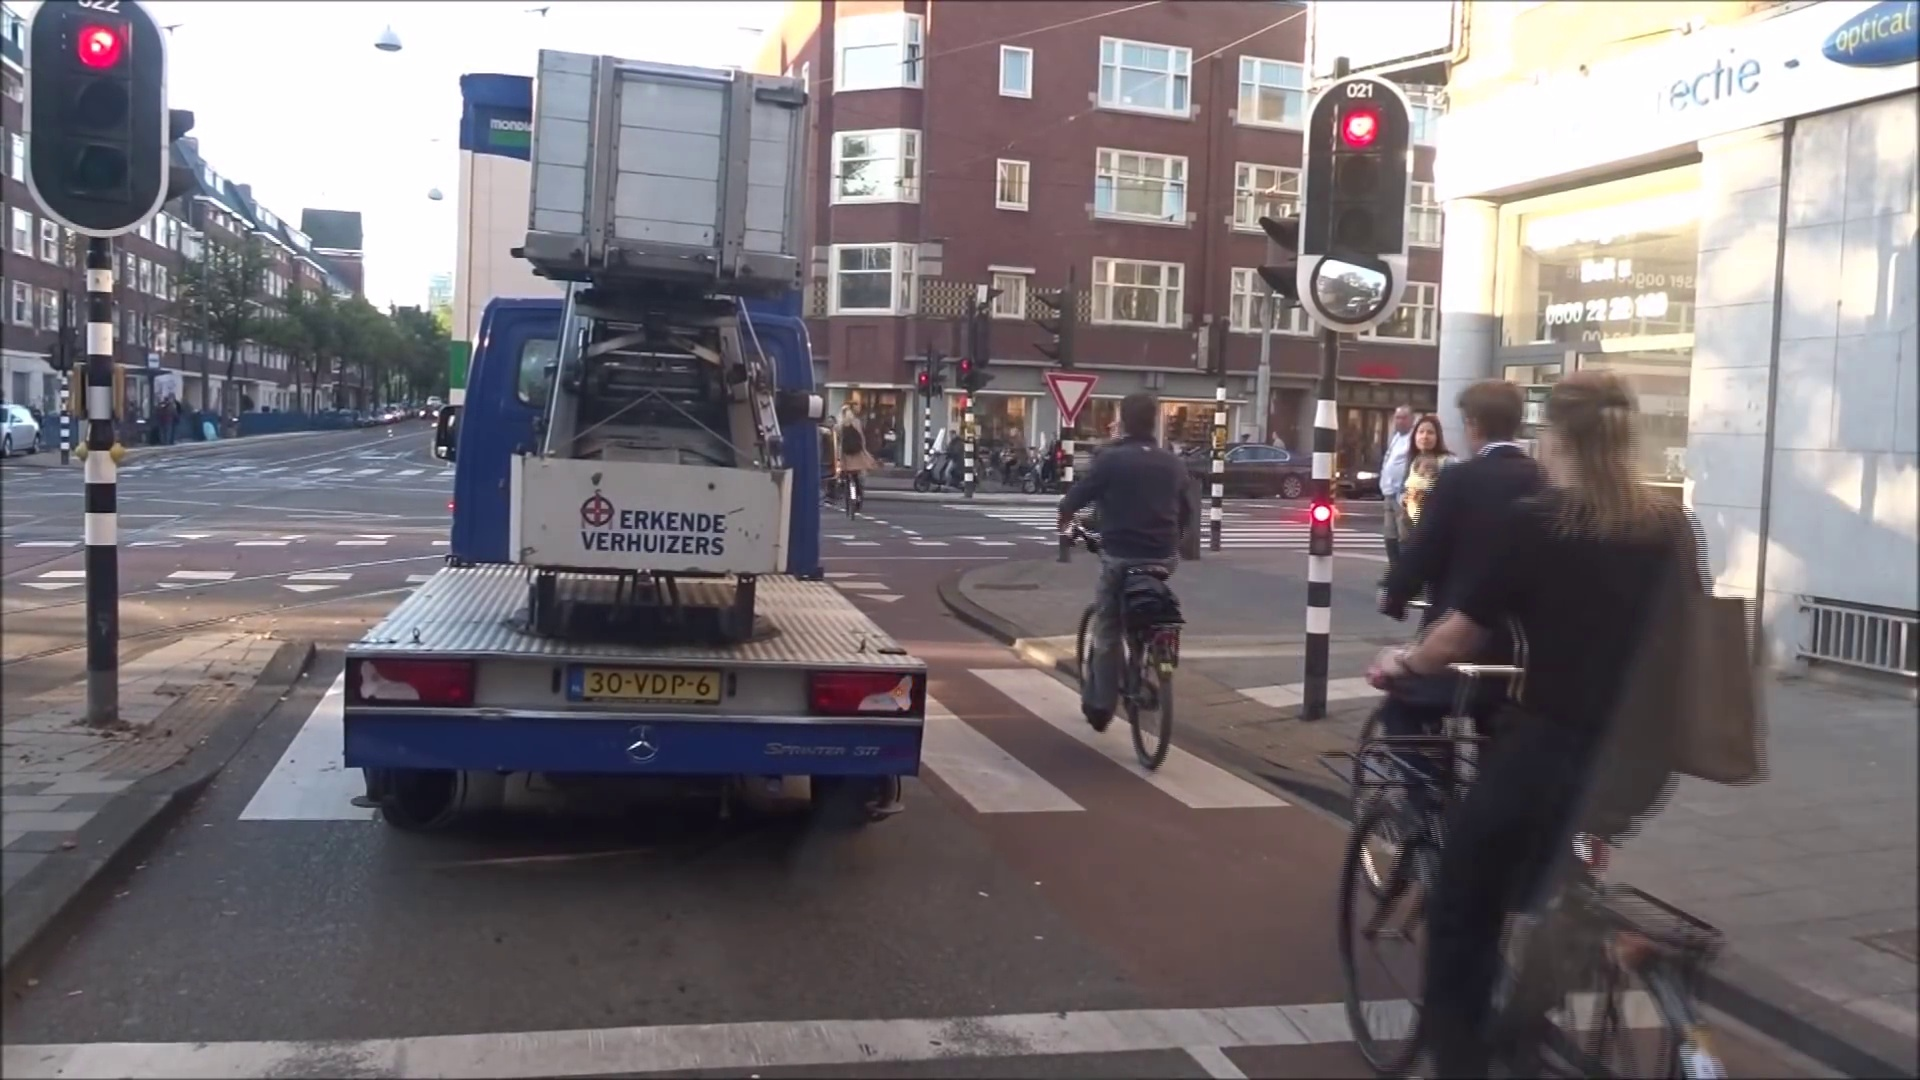cyclist_back: (1338, 373, 1779, 1068), (1064, 392, 1207, 770), (833, 396, 874, 524)
cyclist_side: (916, 422, 984, 498)
